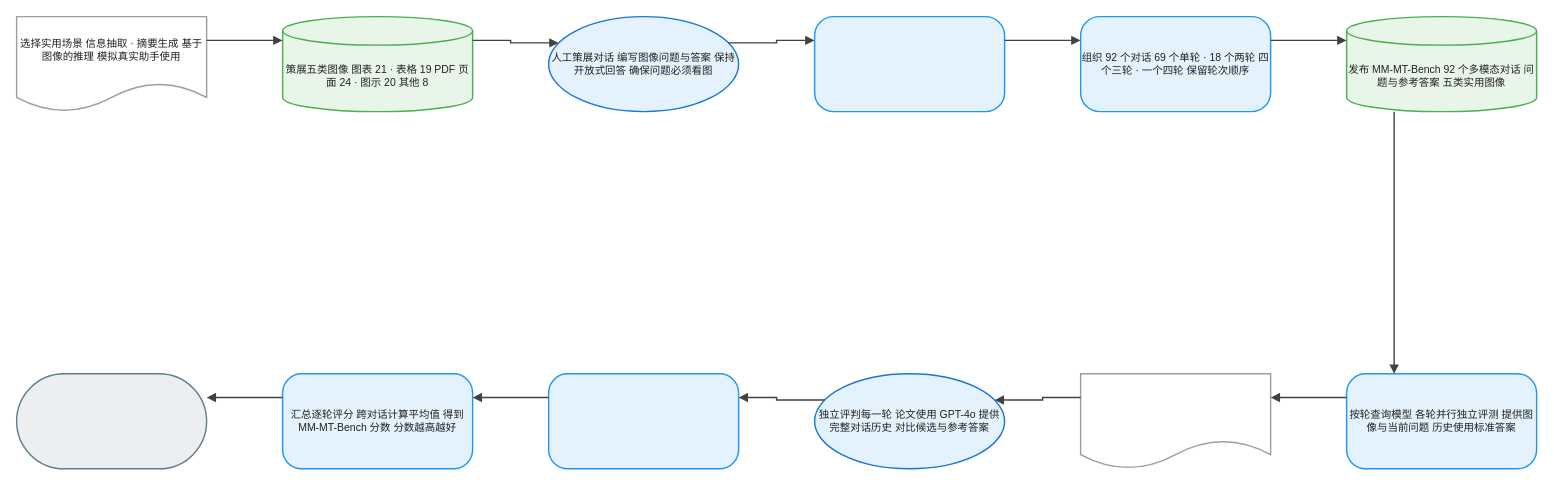
The diagram is 1554 pixels wide and 486 high, and some of its shapes have lost their labels. Each missing label, with the centre of its shape:
"保存候选回答 保留完整对话历史 每轮配对参考答案 不传播前序模型错误" belongs at (x=1175, y=421).
"按两项核心标准评分 抽取内容的正确性 相对参考答案的完整性 给出一至十分" belongs at (x=643, y=421).
"验证参考答案 由第二组标注员复核 检查抽取信息正确性 检查要点覆盖完整性" belongs at (x=909, y=63).
"验证实用场景一致性 报告平均评判分 对照视觉竞技场 ELO 皮尔逊相关系数 0.91" belongs at (x=111, y=421).
